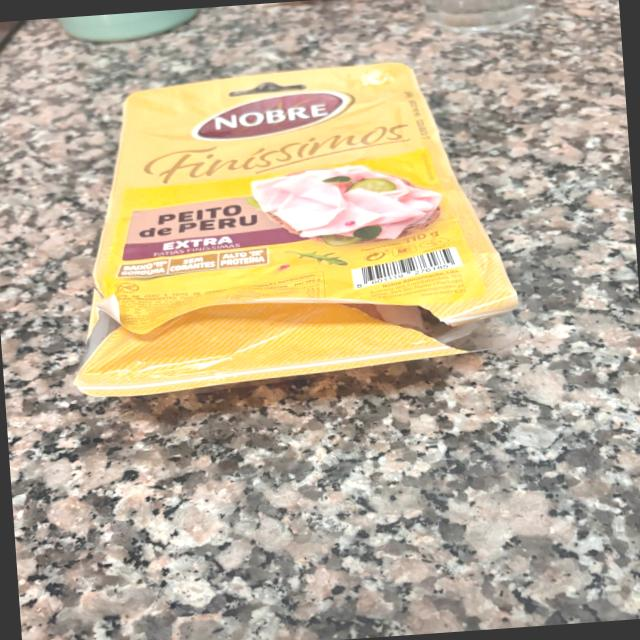damaged_package: (58, 52, 520, 406)
